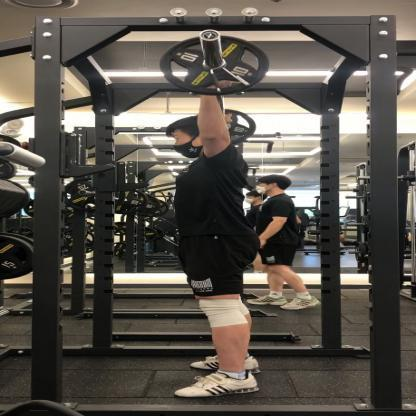barbell: (161, 28, 269, 144)
